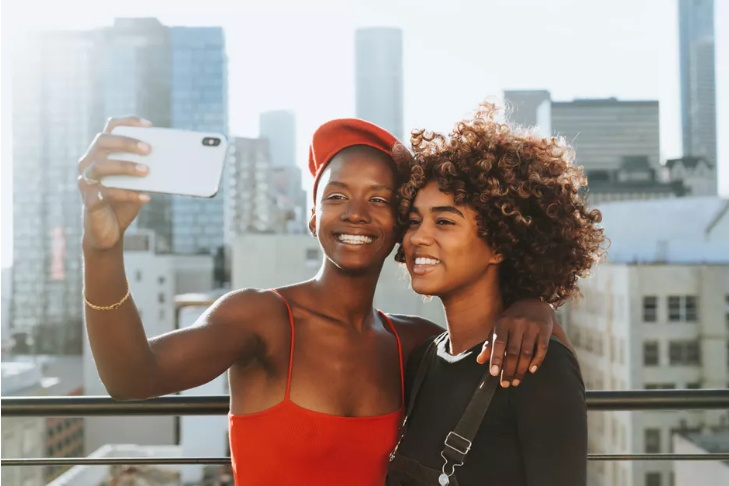face: (316, 151, 398, 273), (404, 182, 476, 293)
